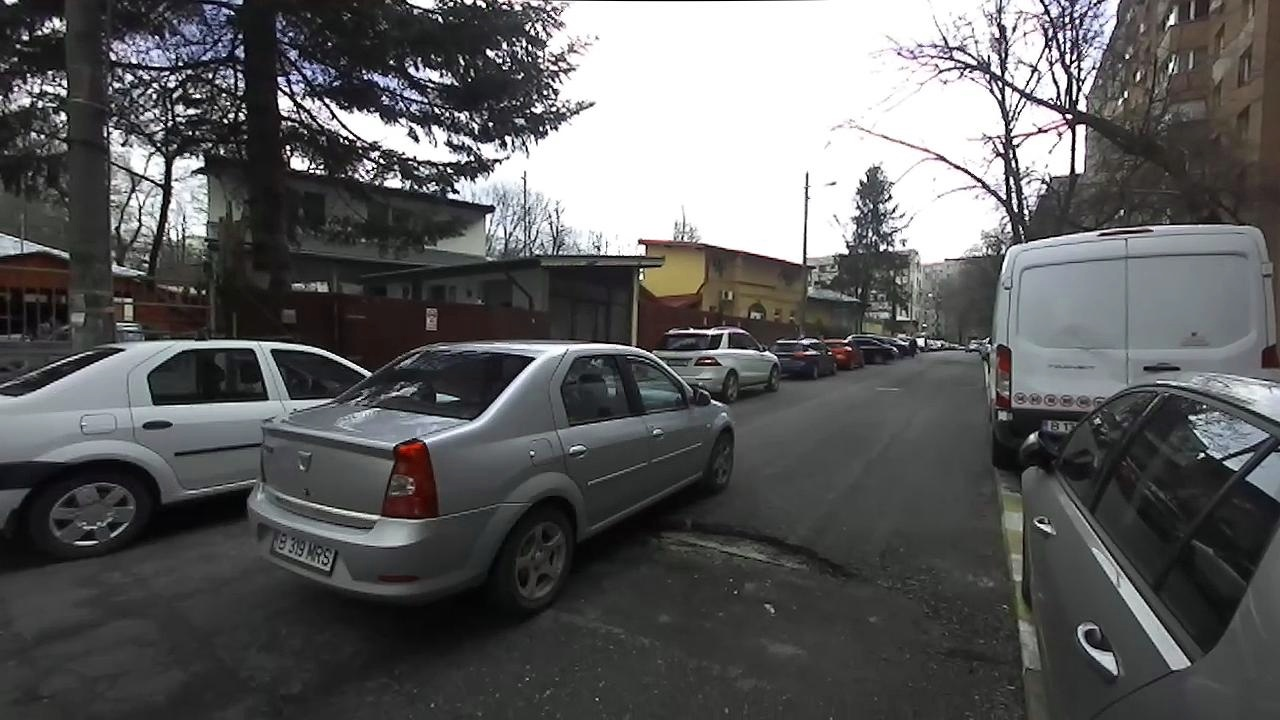pothole: (642, 517, 862, 582)
